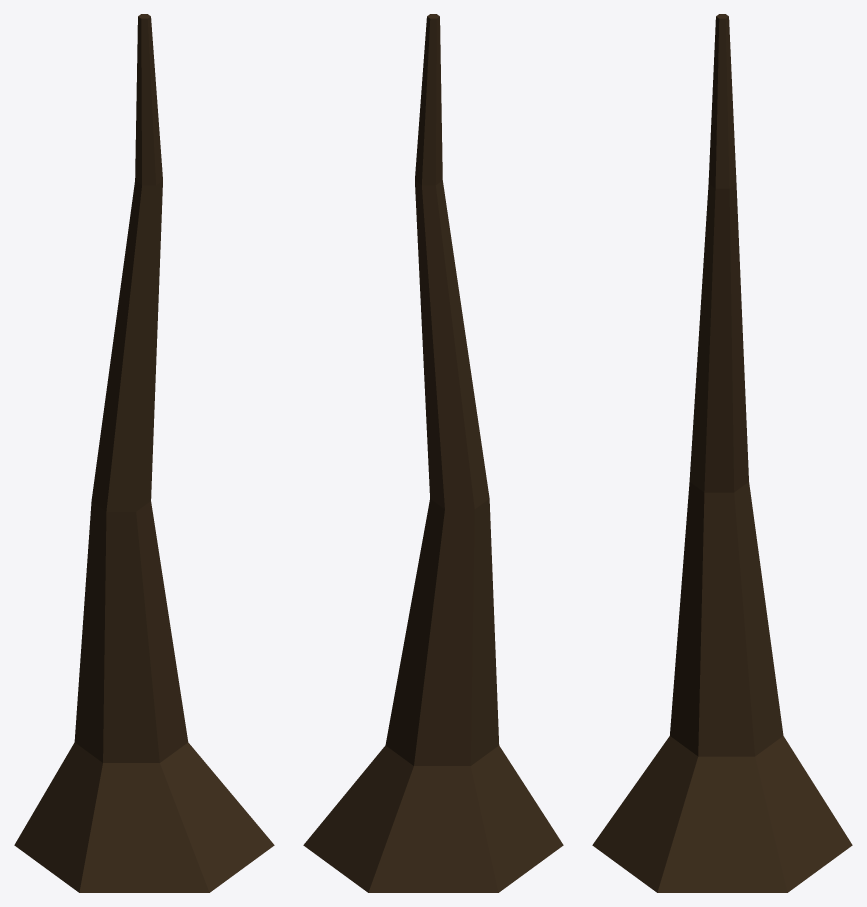
The model's file is dead_pine2.glb.
3 renders of one model, left to right at view 1: azimuth 30°, elevation 25°; view 2: azimuth 150°, elevation 25°; view 3: azimuth 270°, elevation 25°, orthographic.
Parts seen in each view (by area): view 1: Cylinder.083; view 2: Cylinder.083; view 3: Cylinder.083.
Part boxes in pixels (left/top/right/bottom): Cylinder.083: left=14, top=14, right=274, bottom=892; Cylinder.083: left=303, top=14, right=563, bottom=892; Cylinder.083: left=592, top=14, right=852, bottom=892.
Size of the model in its own units: 2.52 by 10.2 by 2.91.
